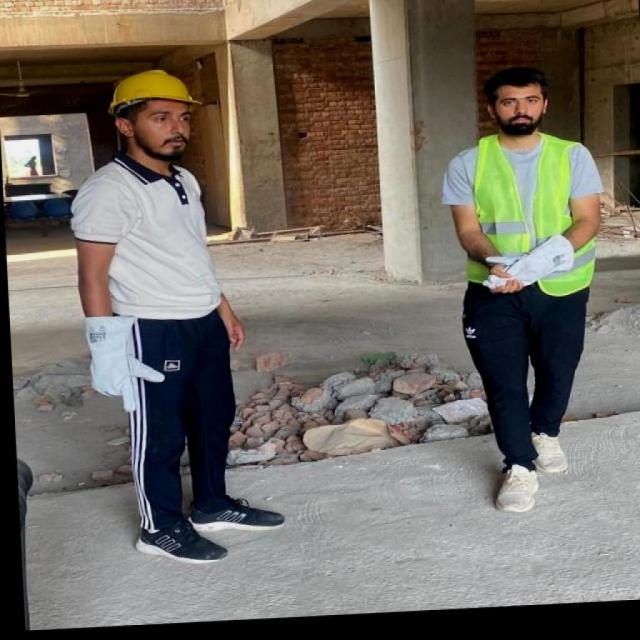Gloves-Detection: (80, 313, 167, 411), (488, 233, 574, 292)
